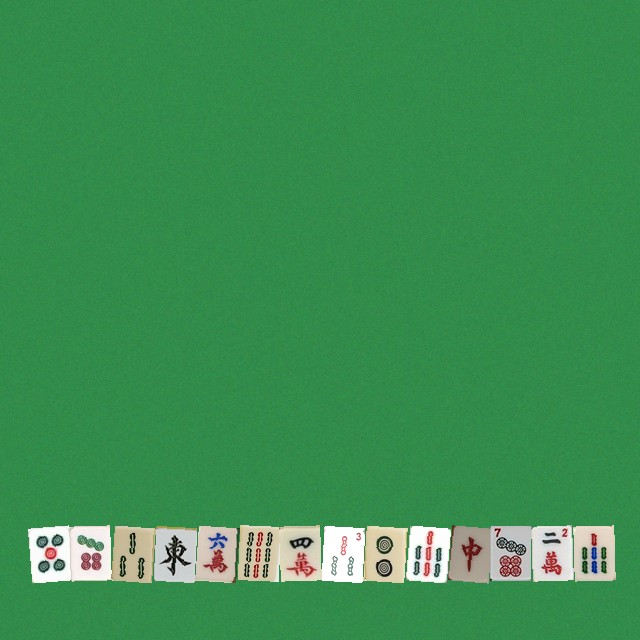tile: (27, 525, 68, 580), (69, 525, 110, 580), (111, 525, 152, 580), (153, 525, 194, 580), (195, 525, 236, 580), (237, 525, 278, 580), (279, 525, 320, 580), (321, 525, 362, 580), (363, 525, 404, 580), (405, 525, 446, 580), (447, 525, 488, 580), (489, 525, 530, 580), (531, 525, 572, 580), (573, 525, 614, 580)
